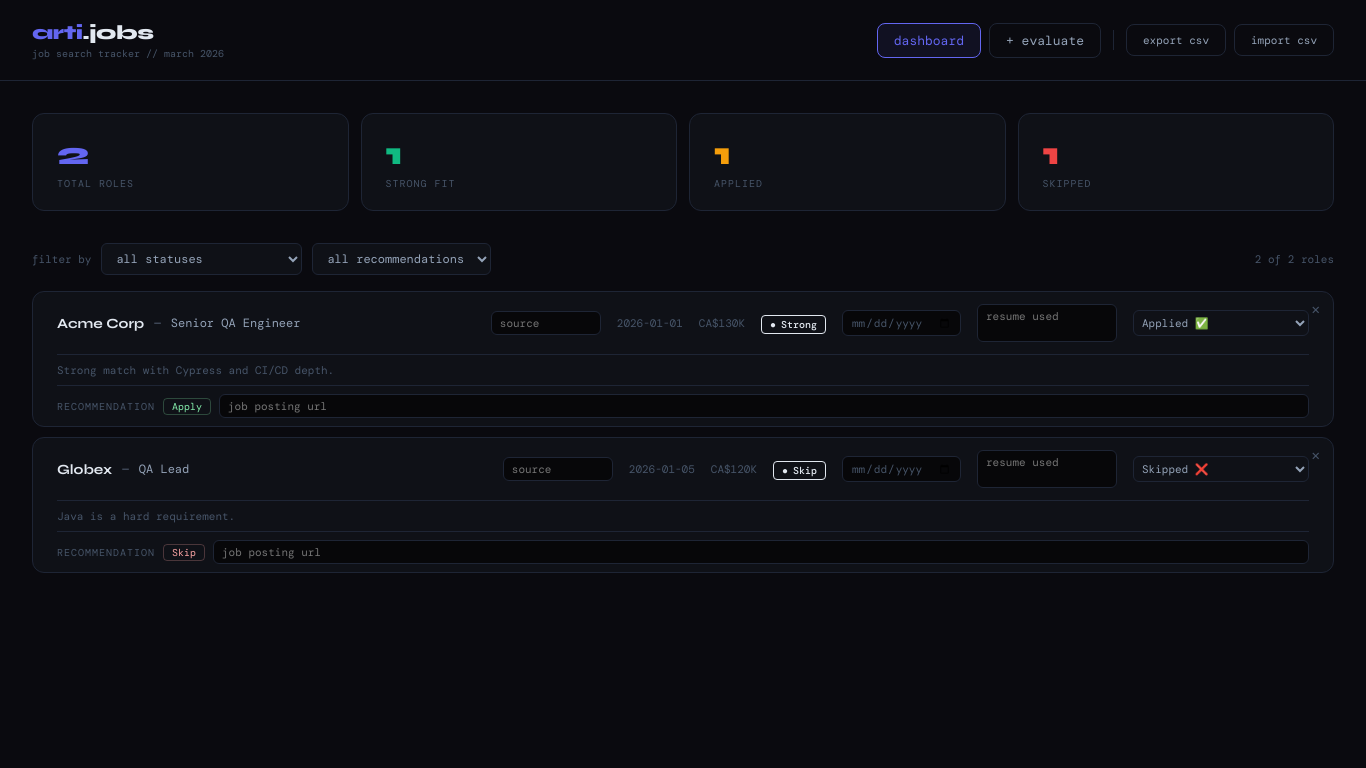
Scenario: job detail navigation › clicking a job card opens the detail panel
expect the element with test id "job-list" is shown: met, box [32,291,1334,573]
Click the element with test id "job-card" that starts with "Acme Corp" at coordinates (683, 359), box [32,291,1334,427]
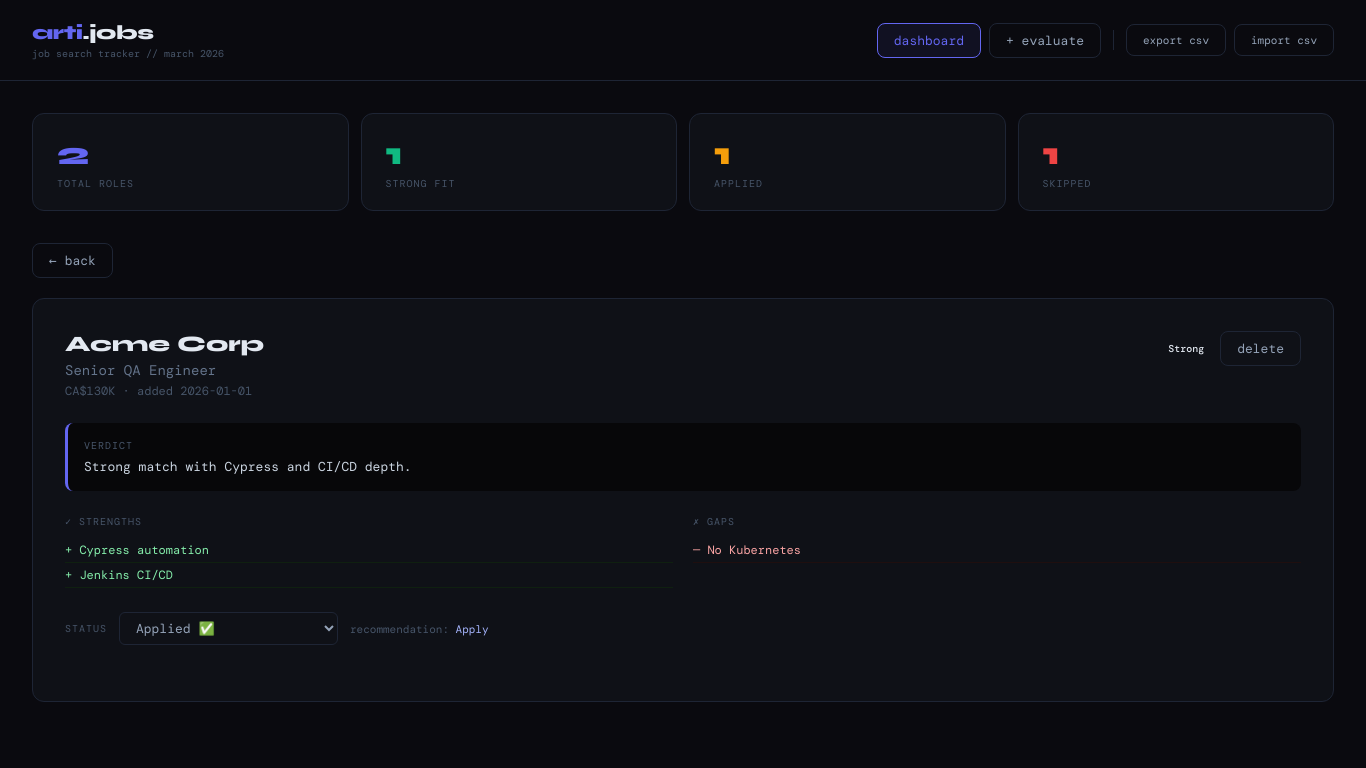
expect the element with test id "job-detail" is shown: met, box [32,243,1334,702]
